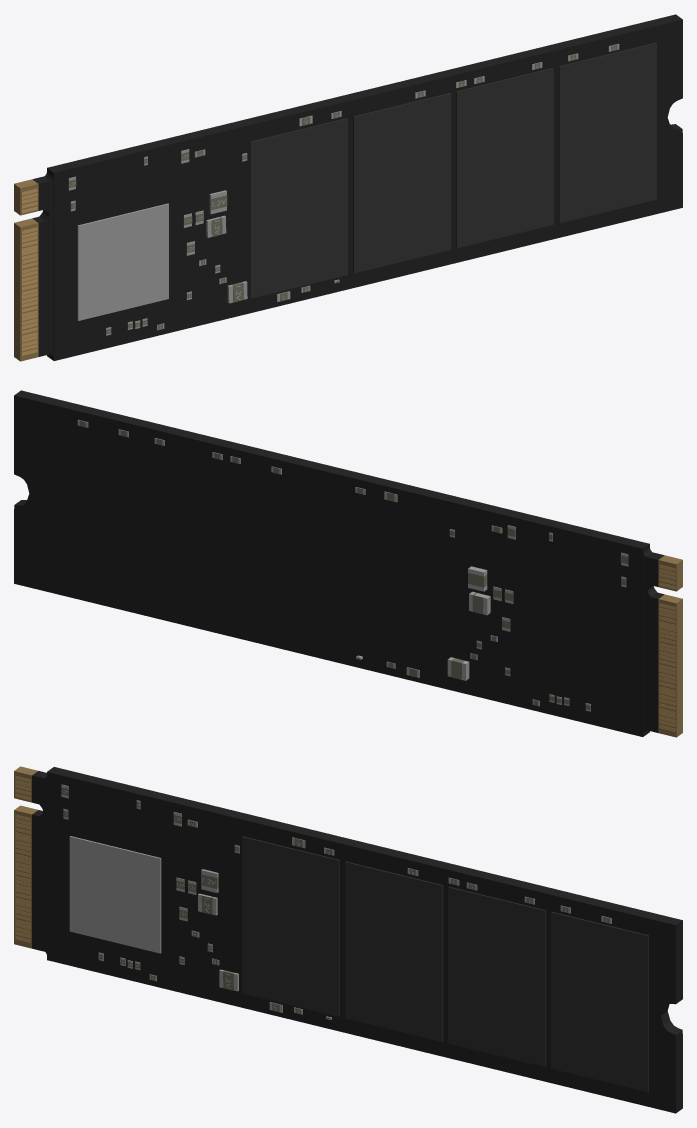
File: nvme-ssd.glb
3 renders of one model, top to bottom at view 1: azimuth 30°, elevation 25°; view 2: azimuth 150°, elevation 25°; view 3: azimuth 330°, elevation 25°, orthographic.
Visible parts, largest first — view 1: SoC_Soldered_0; view 2: SoC_Soldered_0; view 3: SoC_Soldered_0.
Boxes of the visible parts, x1,y1,x2,y2 form: SoC_Soldered_0: [14, 14, 682, 361]; SoC_Soldered_0: [14, 390, 682, 737]; SoC_Soldered_0: [14, 766, 682, 1113].
Size of the model in its own units: 0.08 by 0.0217 by 0.00252.
Materials: 1 (1 with a texture image).
